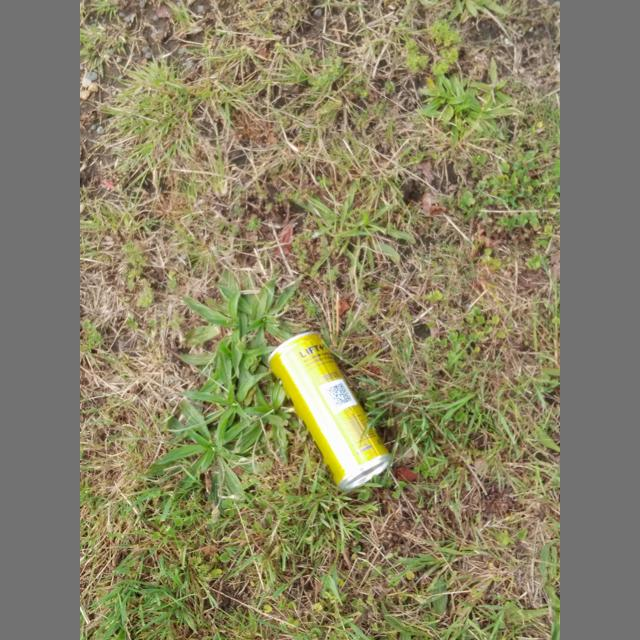litter: (268, 332, 392, 490)
